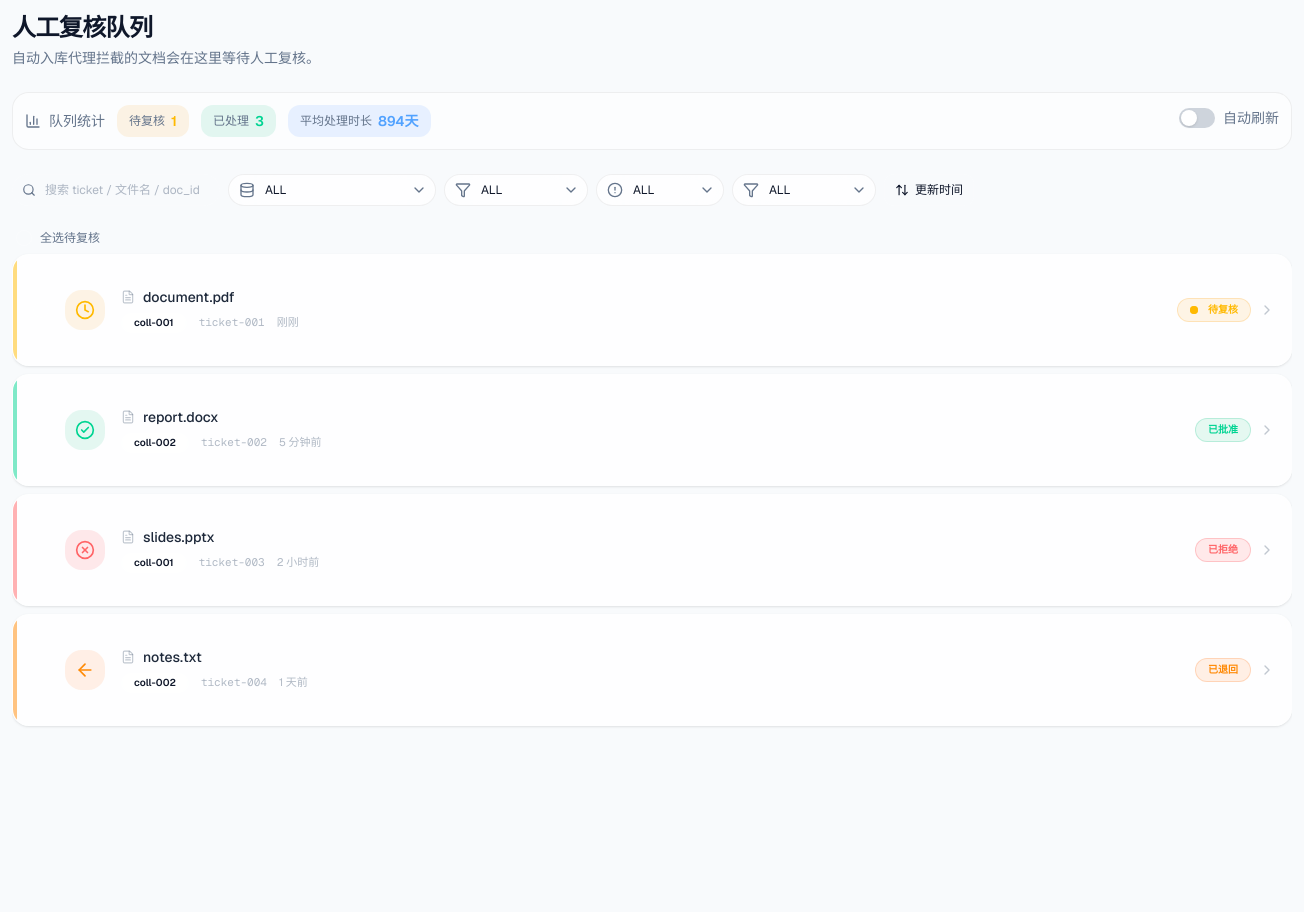
Scenario: ReviewQueuePage › Clear Filters › shows clear filters button when a filter is active
The width and height of the screenshot is (1304, 912).
Expected: the text "document.pdf" is shown, [143, 287, 234, 307]
Expected: the button "清除筛选" is not shown
Click the 2nd dropdown labelled "ALL ▼" at coordinates (516, 190), box [444, 174, 588, 206]
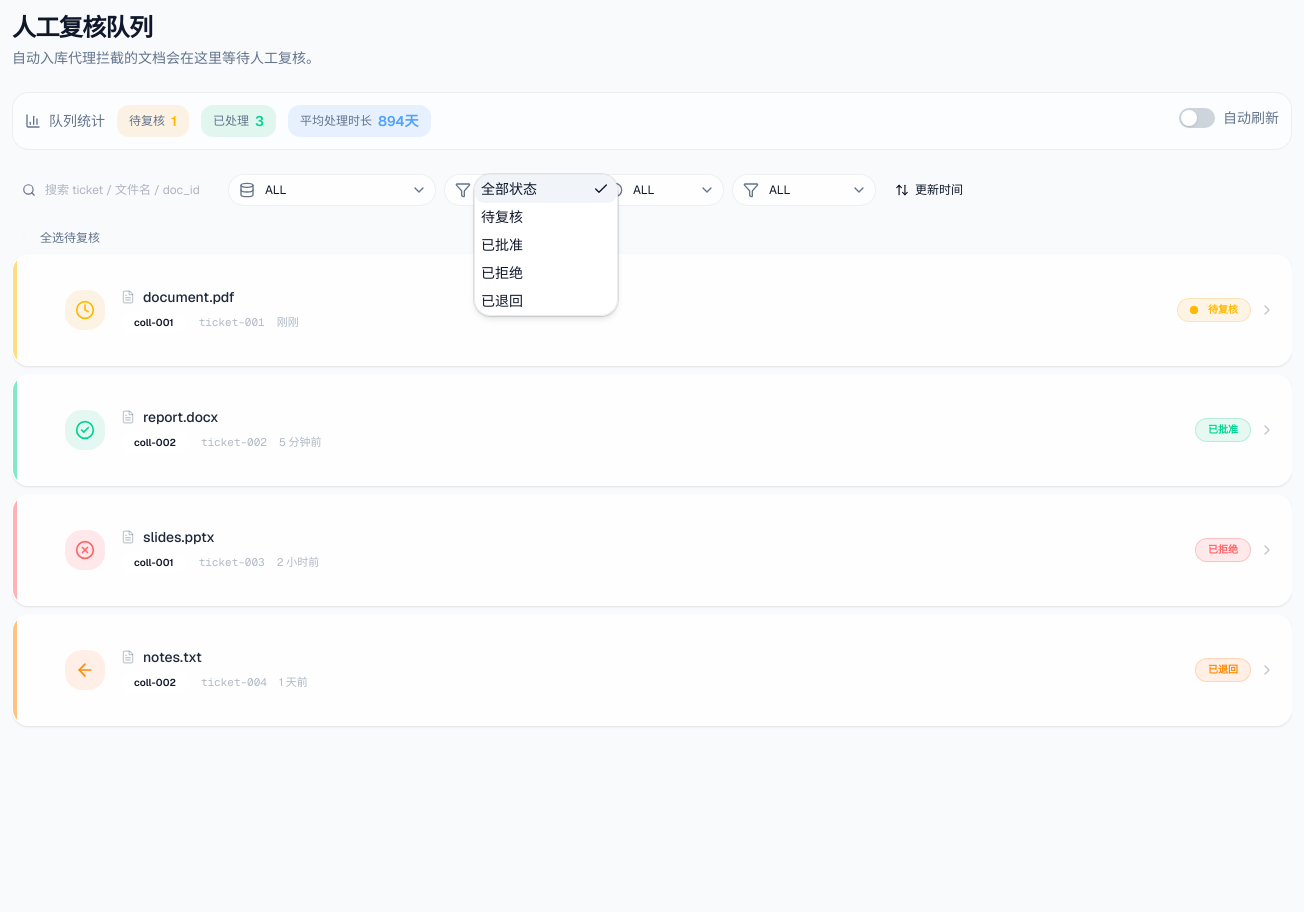
Expected: the option "全部状态" is shown, [475, 175, 617, 203]
Expected: the option "待复核" is shown
Click the option "待复核" at coordinates (502, 217), box [481, 208, 523, 226]
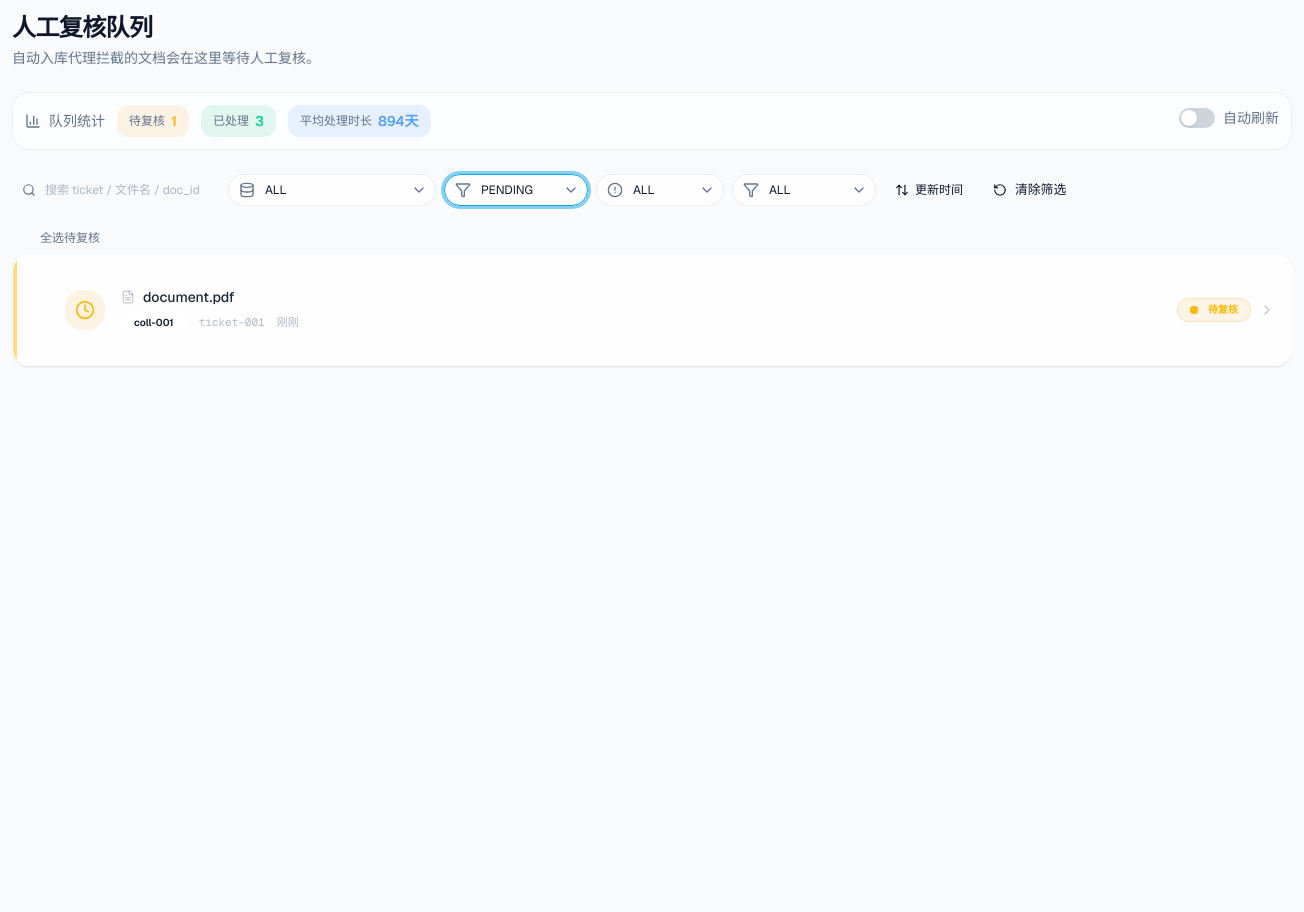
Expected: the button "清除筛选" is shown, [982, 174, 1077, 206]
